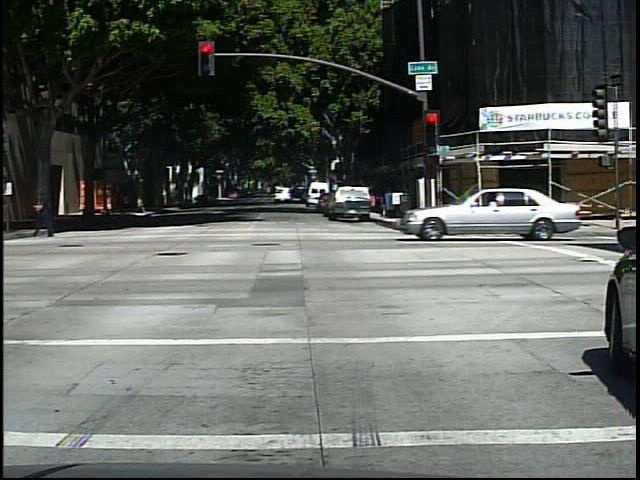person: (32, 189, 61, 241)
